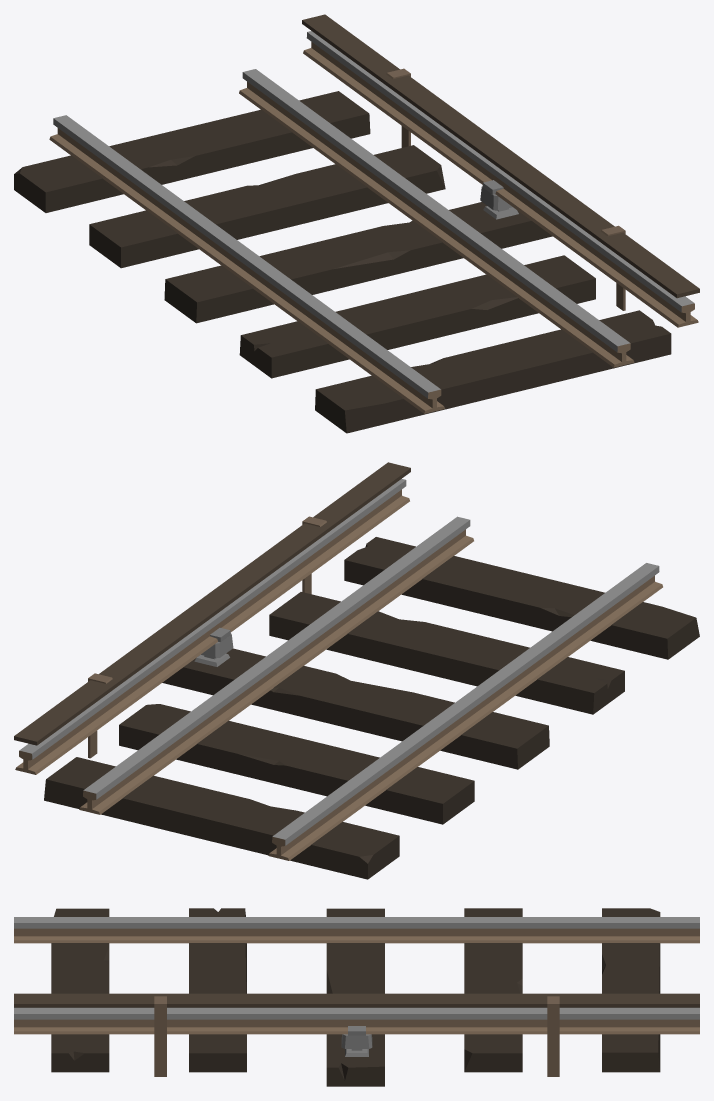
File: SW_ENV_TrackStraight_05m.fbx
3 views of the same model, one above another, from view 1: azimuth 30°, elevation 25°; view 2: azimuth 150°, elevation 25°; view 3: azimuth 270°, elevation 25° (orthographic). The views are drawn at different scales.
Visible parts, largest first — view 1: SW_ENV_TrackStraight_05m; view 2: SW_ENV_TrackStraight_05m; view 3: SW_ENV_TrackStraight_05m.
Boxes of the visible parts, box(x1,y1,x2,y2) form: SW_ENV_TrackStraight_05m: box(14, 14, 699, 433); SW_ENV_TrackStraight_05m: box(14, 462, 699, 879); SW_ENV_TrackStraight_05m: box(14, 908, 699, 1086).
Size of the model in its own units: 275 by 58.74 by 500.
